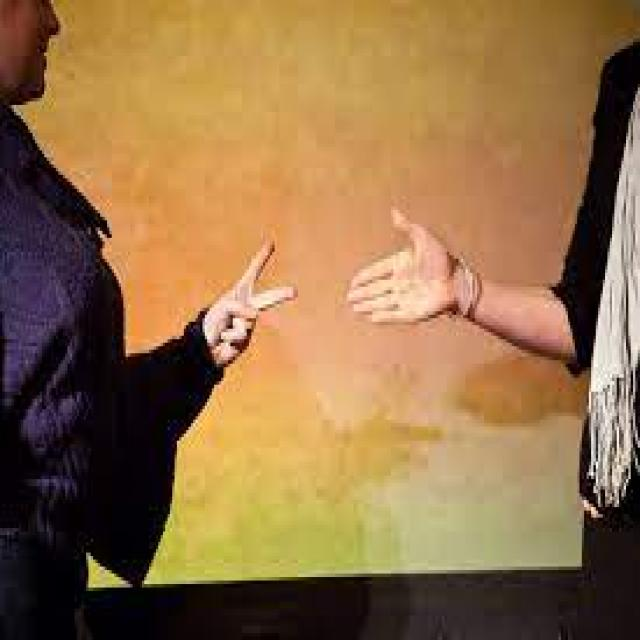paper: (348, 205, 454, 324)
scissors: (212, 238, 300, 326)
